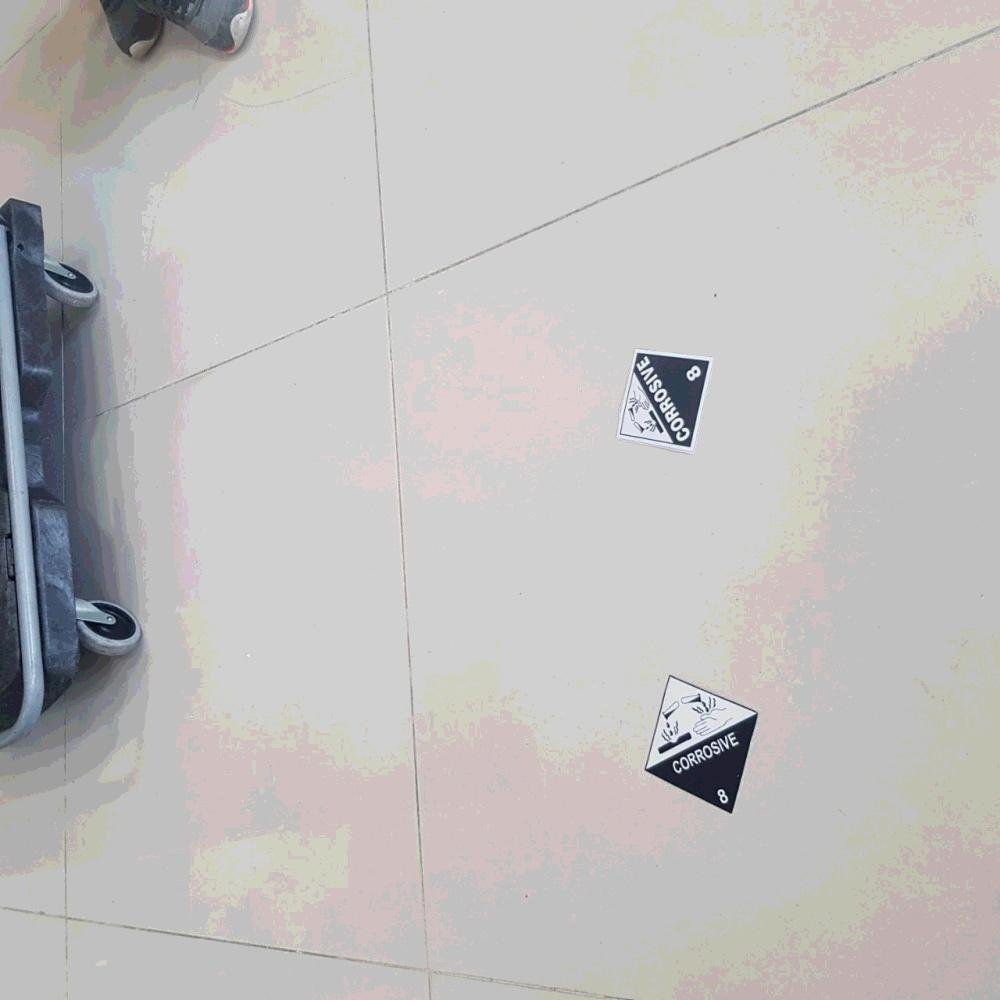corrosive: (650, 677, 769, 813), (615, 352, 715, 449)
